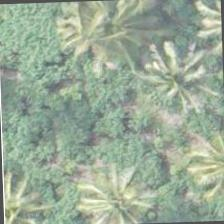Kelapa_Sawit: (130, 33, 222, 126), (40, 0, 134, 86), (73, 161, 166, 223), (173, 116, 223, 209), (2, 173, 55, 223)
